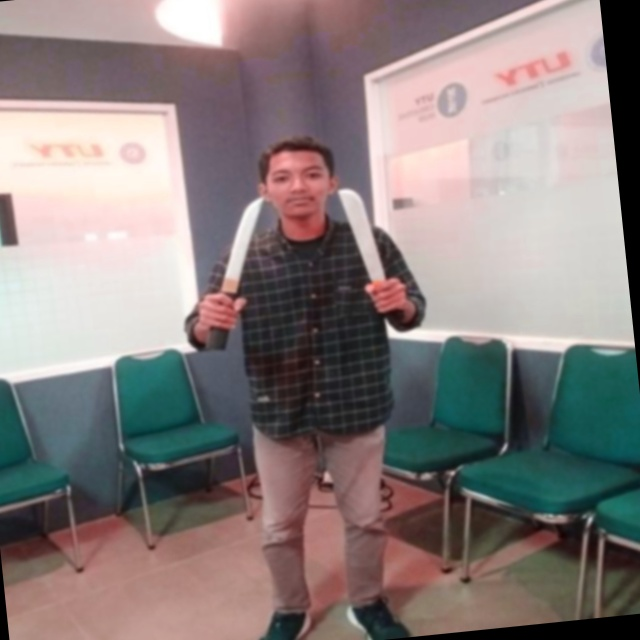Sharp-Object: (327, 179, 420, 343), (191, 193, 284, 355)
